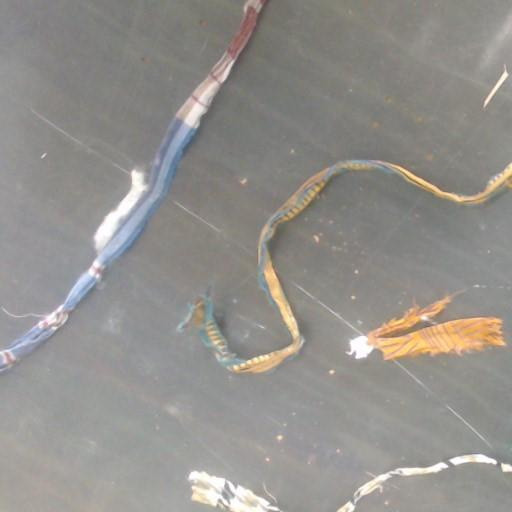cloth: (0, 0, 266, 371), (178, 160, 511, 372), (349, 296, 504, 360), (337, 454, 511, 511), (188, 471, 280, 511)
conveyor belt: (0, 0, 511, 511), (0, 0, 244, 313), (357, 466, 511, 511)
thread: (483, 65, 507, 107)
